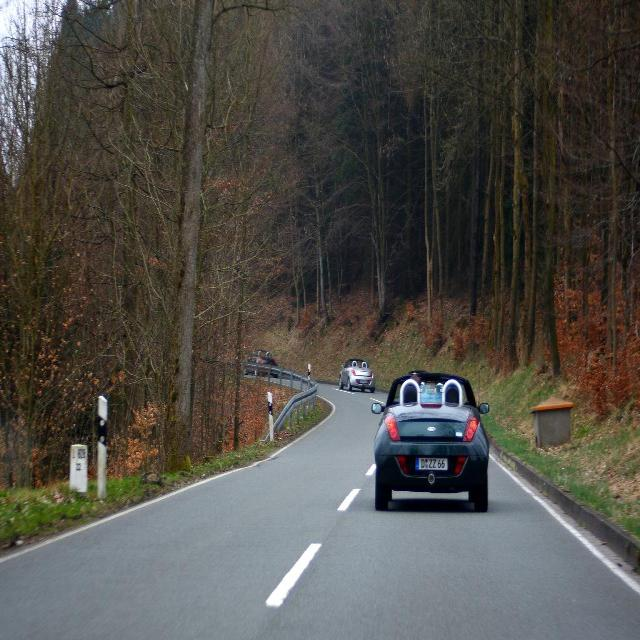car: (370, 368, 492, 512), (339, 355, 374, 391)
